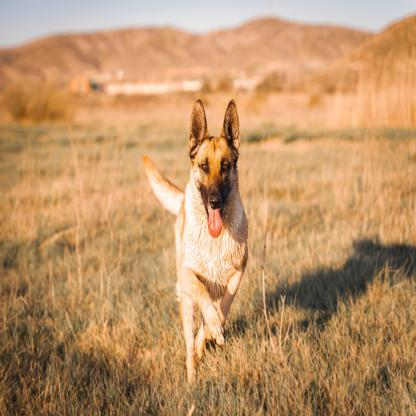dog: (136, 94, 246, 392)
